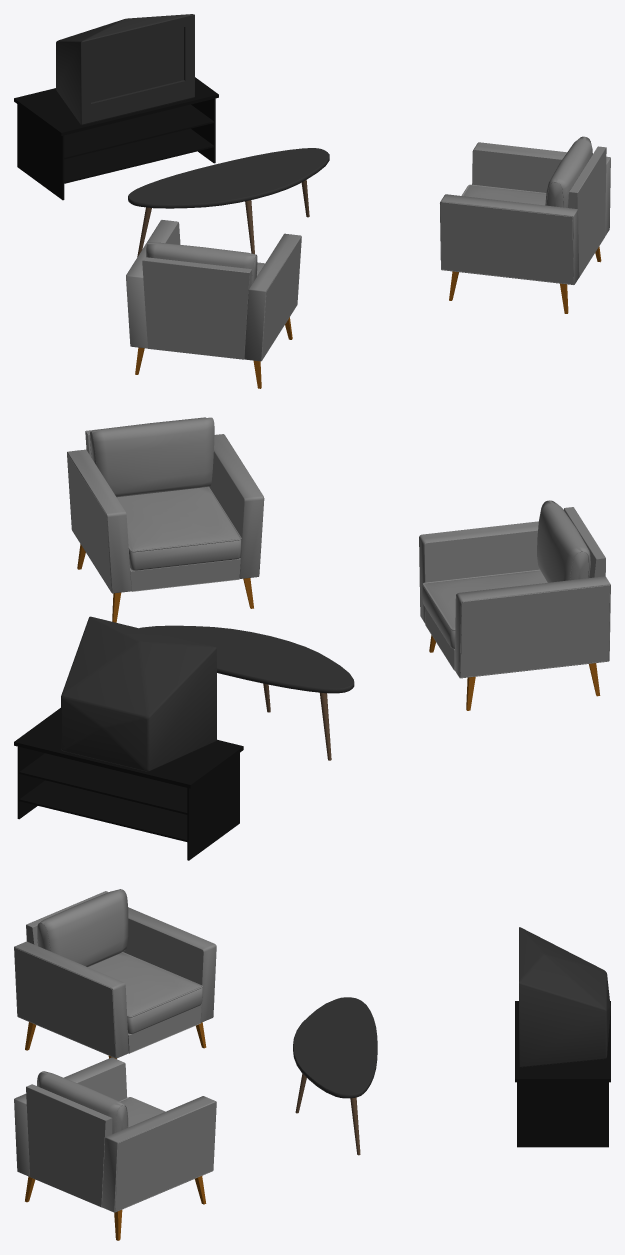
File: meubles01.obj
3 renders of one model, top to bottom at view 1: azimuth 30°, elevation 25°; view 2: azimuth 150°, elevation 25°; view 3: azimuth 270°, elevation 25°, orthographic. The views are drawn at different scales.
Parts seen in each view (by area): view 1: Bottom_6, TV_19, RightShoulder_10, Table_28, Etagere_21, Etagere_2_23, TV_9_20, Montant_1_22, Bottom_15, LeftShoulder_17, Etagere_1_24, LeftShoulder_2_9 (+10 smaller); view 2: TV_9_20, RightShoulder_1, Pillow_13, Seat_14, Table_28, LeftShoulder_8, Etagere_21, Etagere_2_23, Etagere_1_24, Montant_1_22, Pillow_4, LeftShoulder_2_18 (+10 smaller); view 3: TV_9_20, Bottom_15, LeftShoulder_17, LeftShoulder_8, Table_28, Montant_25, Pillow_4, Seat_5, RightShoulder_1, LeftShoulder_2_9, LeftShoulder_2_18, Etagere_1_24 (+9 smaller).
Part boxes in pixels (left/top/right/bottom): Bottom_6: left=142, top=257, right=251, bottom=359; TV_19: left=81, top=15, right=194, bottom=124; RightShoulder_10: left=440, top=202, right=573, bottom=284; Table_28: left=128, top=148, right=329, bottom=204; Etagere_21: left=63, top=128, right=215, bottom=183; Etagere_2_23: left=64, top=104, right=215, bottom=159; TV_9_20: left=56, top=14, right=194, bottom=125; Montant_1_22: left=17, top=104, right=64, bottom=200; Bottom_15: left=568, top=146, right=606, bottom=277; LeftShoulder_17: left=472, top=150, right=561, bottom=192; Etagere_1_24: left=14, top=77, right=218, bottom=135; LeftShoulder_2_9: left=244, top=233, right=301, bottom=361; TV_9_20: left=61, top=616, right=216, bottom=771; RightShoulder_1: left=460, top=585, right=609, bottom=677; Pillow_13: left=90, top=417, right=214, bottom=497; Seat_14: left=117, top=486, right=241, bottom=570; Table_28: left=139, top=625, right=353, bottom=688; LeftShoulder_8: left=424, top=530, right=539, bottom=582; Etagere_21: left=18, top=780, right=188, bottom=842; Etagere_2_23: left=18, top=753, right=187, bottom=814; Etagere_1_24: left=14, top=708, right=243, bottom=788; Montant_1_22: left=187, top=753, right=239, bottom=860; Pillow_4: left=537, top=500, right=590, bottom=582; LeftShoulder_2_18: left=67, top=449, right=131, bottom=593; TV_9_20: left=519, top=927, right=610, bottom=1067; Bottom_15: left=26, top=1084, right=112, bottom=1207; LeftShoulder_17: left=115, top=1102, right=216, bottom=1211; LeftShoulder_8: left=14, top=948, right=115, bottom=1057; Table_28: left=293, top=997, right=377, bottom=1094; Montant_25: left=517, top=1082, right=608, bottom=1147; Pillow_4: left=37, top=889, right=128, bottom=966; Seat_5: left=88, top=952, right=202, bottom=1033; RightShoulder_1: left=123, top=918, right=203, bottom=984; LeftShoulder_2_9: left=14, top=941, right=128, bottom=1058; LeftShoulder_2_18: left=102, top=1096, right=216, bottom=1212; Etagere_1_24: left=515, top=1001, right=610, bottom=1082.
Size of the model in its own units: 308 by 93 by 324.
